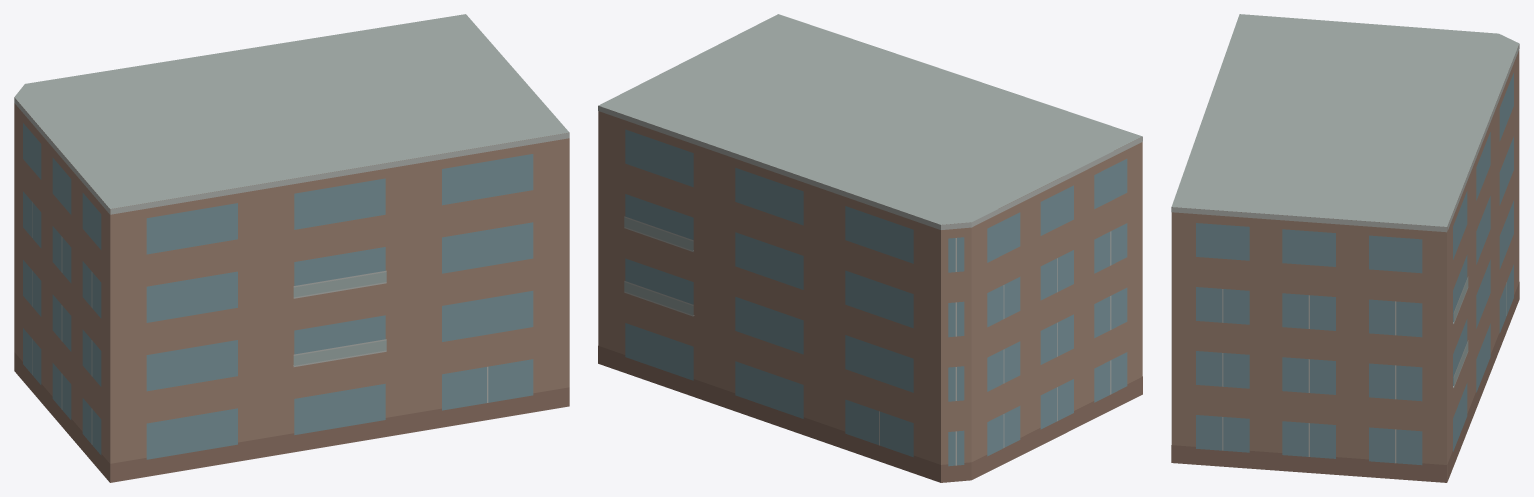
The model's file is survey-upis-32919855.glb.
3 renders of one model, left to right at view 1: azimuth 30°, elevation 25°; view 2: azimuth 150°, elevation 25°; view 3: azimuth 270°, elevation 25°, orthographic. The views are drawn at different scales.
Parts seen in each view (by area): view 1: survey-upis-32919855.tmp; view 2: survey-upis-32919855.tmp; view 3: survey-upis-32919855.tmp.
Part boxes in pixels (x1,y1,x2,y2): survey-upis-32919855.tmp: (14,14,569,482); survey-upis-32919855.tmp: (598,14,1142,482); survey-upis-32919855.tmp: (1171,14,1519,482).
Bounding box in the file's own units: 21.25 × 11.9 × 14.68.
